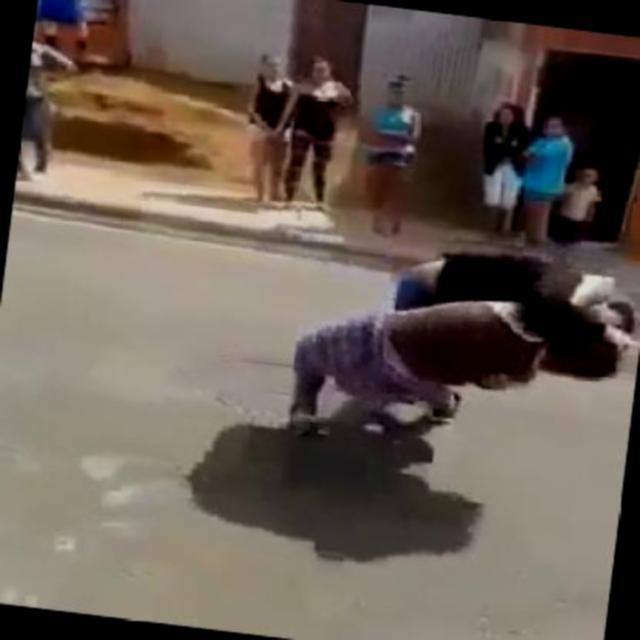fight: (276, 224, 638, 478)
non-fight: (202, 5, 362, 208), (464, 70, 574, 236), (365, 54, 437, 237)
